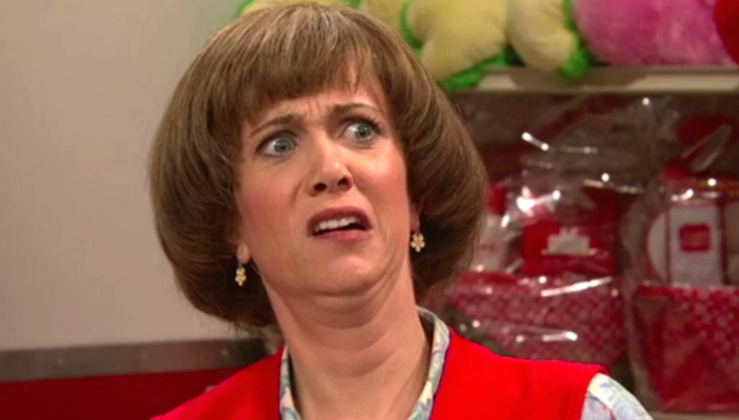confused: (228, 70, 419, 312)
